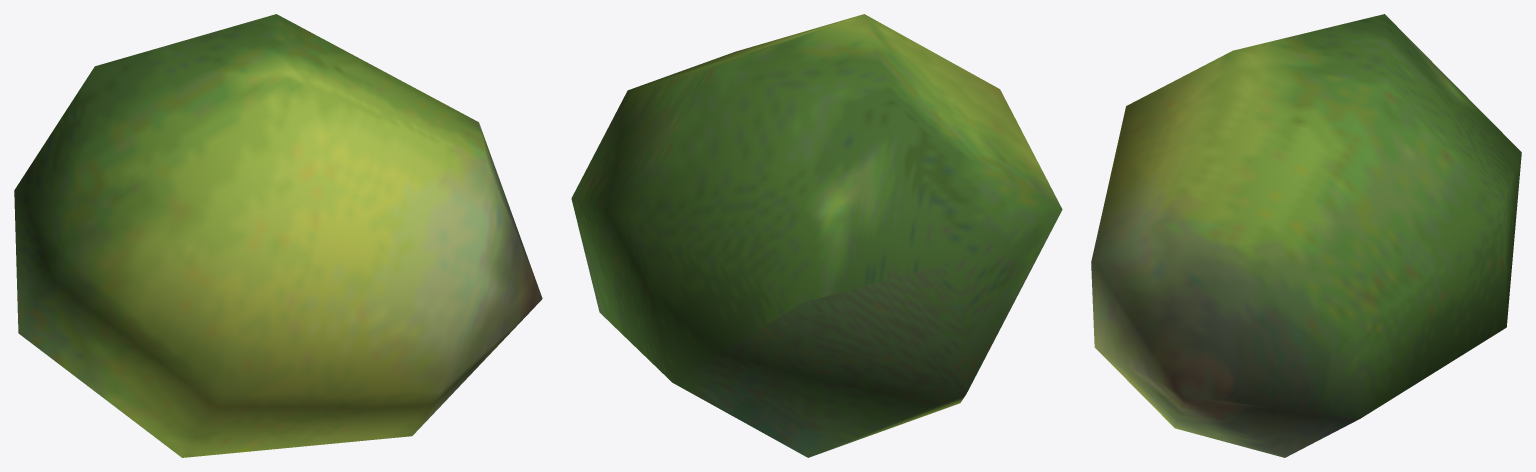
The model's file is 5010_Item_yezi_01.FBX.
3 renders of one model, left to right at view 1: azimuth 30°, elevation 25°; view 2: azimuth 150°, elevation 25°; view 3: azimuth 270°, elevation 25°, orthographic. The views are drawn at different scales.
Visible parts, largest first — view 1: 5010_Item_yezi_01; view 2: 5010_Item_yezi_01; view 3: 5010_Item_yezi_01.
Boxes of the visible parts, <box> form: 5010_Item_yezi_01: <box>14,14,542,457</box>; 5010_Item_yezi_01: <box>571,14,1062,457</box>; 5010_Item_yezi_01: <box>1091,14,1521,457</box>.
Size of the model in its own units: 49.39 by 39.8 by 44.73.
